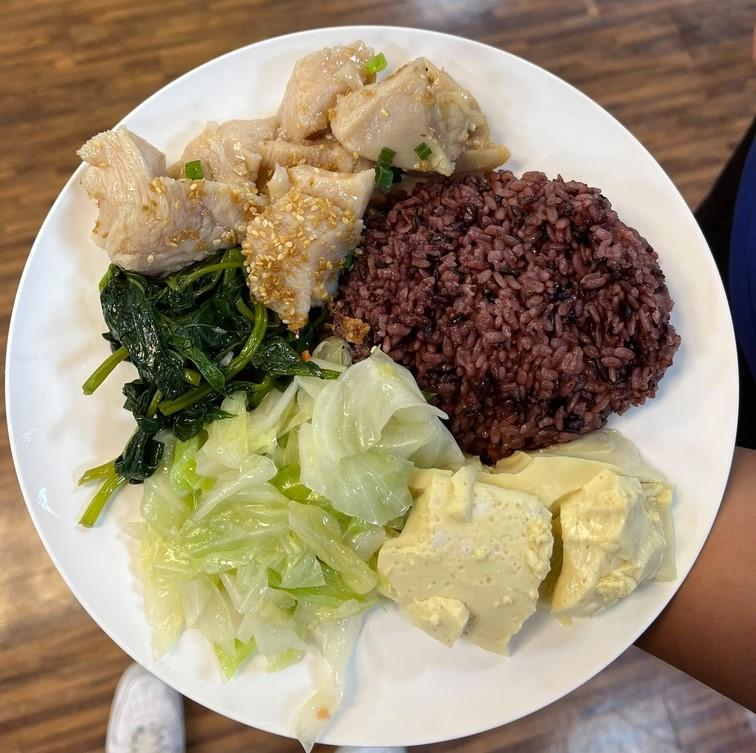big fried chicken leg: (7, 20, 756, 753)
braised fish: (343, 174, 677, 449)
braised fish fillet: (137, 359, 449, 659), (375, 415, 684, 652), (65, 250, 301, 521)
braised pork: (62, 37, 479, 325)
